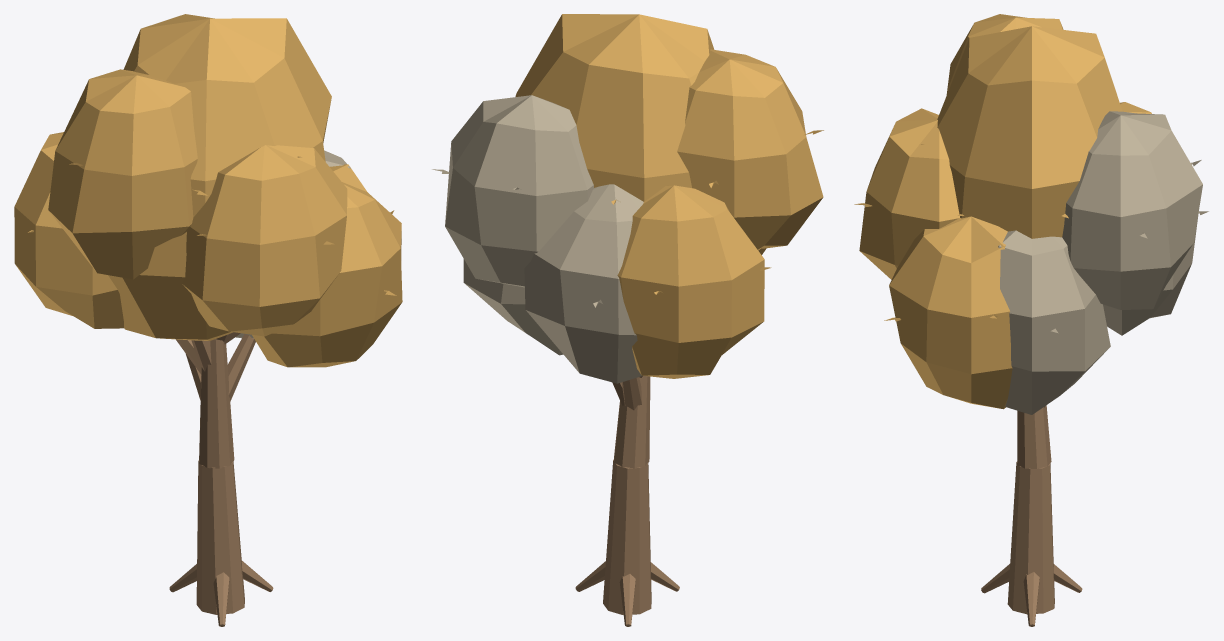
File: Tree_Autumn.fbx
The picture shows the model from 3 angles, left to right: view 1: azimuth 30°, elevation 25°; view 2: azimuth 150°, elevation 25°; view 3: azimuth 270°, elevation 25°; orthographic projection. The views are drawn at different scales.
Parts seen in each view (by area): view 1: Tree_Autumn; view 2: Tree_Autumn; view 3: Tree_Autumn.
Boxes of the visible parts, x1,y1,x2,y2 form: Tree_Autumn: (14, 14, 402, 626); Tree_Autumn: (432, 14, 823, 626); Tree_Autumn: (854, 14, 1208, 626).
Bounding box in the file's own units: 292 × 497 × 280.
